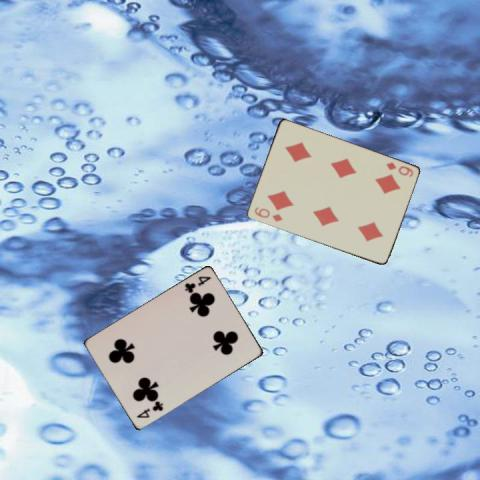4c: (181, 273, 213, 295), (133, 399, 165, 420)
6d: (382, 159, 414, 179), (252, 204, 284, 223)
